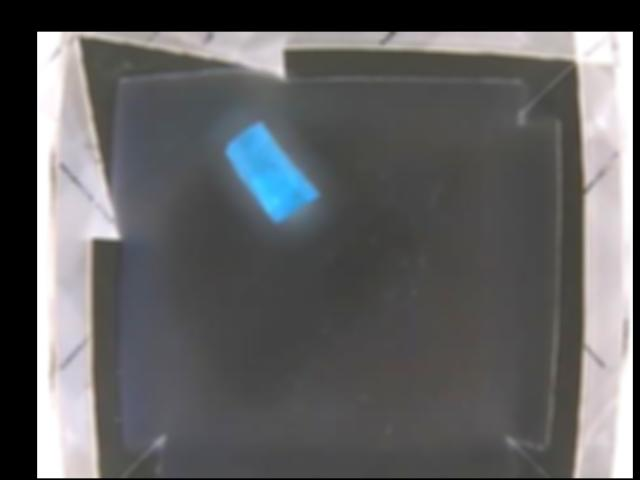Carrot: (221, 122, 319, 222)
